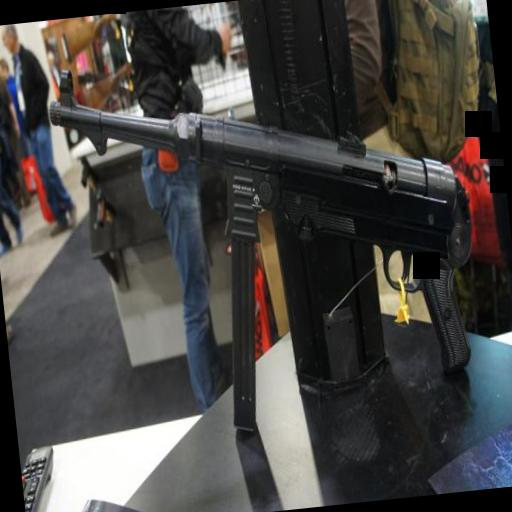Handgun: (42, 46, 500, 472)
